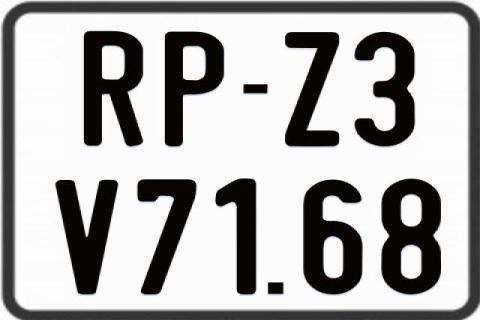0: (380, 176, 446, 293), (354, 32, 418, 148), (302, 180, 362, 298), (136, 179, 195, 297), (213, 176, 258, 293)
P: (163, 29, 222, 149)
R: (82, 30, 142, 146)
V: (53, 178, 115, 296)
Z: (284, 31, 340, 149)
